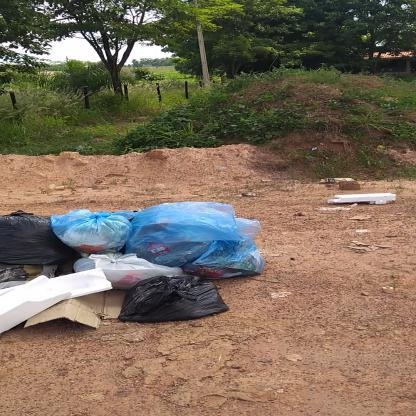lixo: (0, 210, 238, 318)
